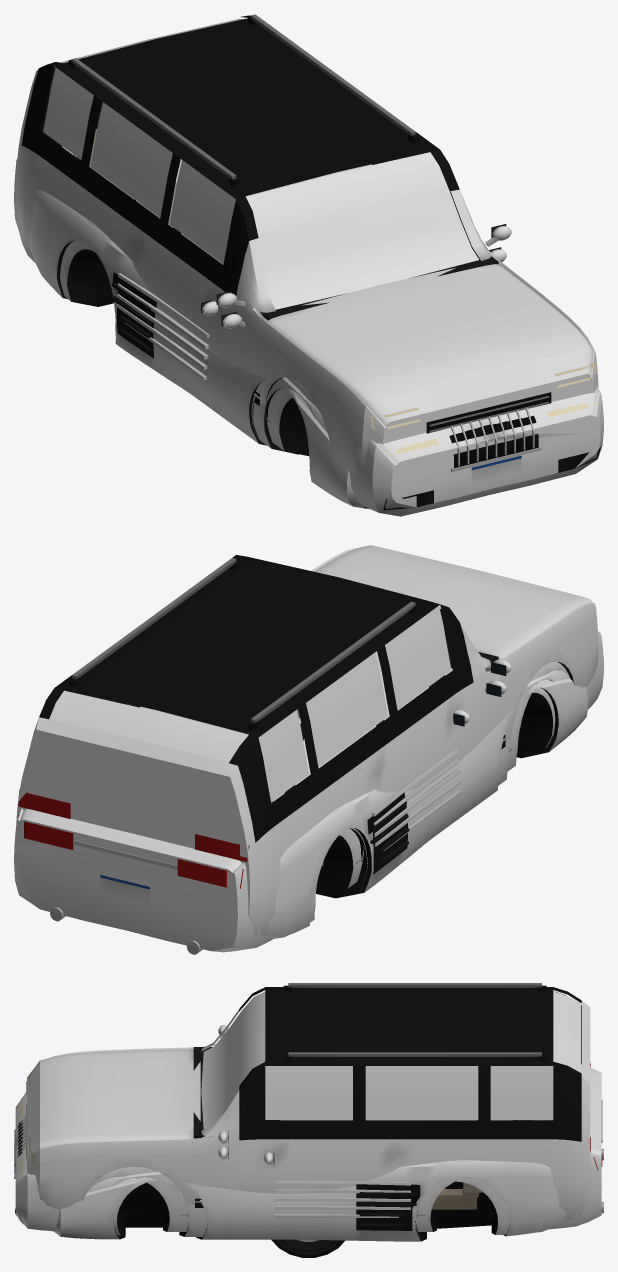
File: lujo.glb
3 renders of one model, top to bottom at view 1: azimuth 30°, elevation 25°; view 2: azimuth 150°, elevation 25°; view 3: azimuth 270°, elevation 25°, orthographic. The views are drawn at different scales.
Visible parts, largest first — view 1: paint.005, glass.005, paint.004, paint.002, paint, shiny.005, detail.004, detail.005, detail.002, paint.003, shiny.004, paint.001; view 2: paint.005, paint.004, glass.005, paint.002, paint, shiny.005, tail.004, detail.002, tail.005, paint.003, detail.004, paint.001 (+2 smaller); view 3: paint.005, glass.005, paint.002, paint.004, paint, shiny.005, detail.002, paint.003, detail.005, detail.004, paint.001, wheel.005 (+2 smaller).
Part boxes in pixels (x1,y1,x2,y2): paint.005: (16,15,598,472); glass.005: (43,18,478,309); paint.004: (14,146,603,516); paint.002: (28,154,369,509); paint: (60,241,311,440); shiny.005: (72,14,548,432); detail.004: (221,247,600,510); detail.005: (68,16,551,433); detail.002: (111,272,366,508); paint.003: (73,199,327,454); shiny.004: (267,407,541,471); paint.001: (117,274,256,399); paint.005: (16,545,598,937); paint.004: (14,631,603,952); glass.005: (49,606,451,801); paint.002: (265,678,587,937); paint: (271,679,555,938); shiny.005: (72,558,458,775); tail.004: (18,814,243,888); detail.002: (367,792,409,874); tail.005: (18,789,249,861); paint.003: (325,670,570,893); detail.004: (100,683,501,903); paint.001: (343,759,460,846); paint.005: (27,987,590,1220); glass.005: (201,991,580,1129); paint.002: (54,1120,566,1241); paint.004: (15,1064,601,1231); paint: (113,1177,552,1237); shiny.005: (26,983,541,1154); detail.002: (55,1184,420,1239); paint.003: (52,1120,507,1237); detail.005: (193,985,546,1192); detail.004: (15,1121,479,1224); paint.001: (200,1179,453,1209); wheel.005: (271,1239,344,1257).
Size of the model in its own units: 2.35 by 2.27 by 5.18.
